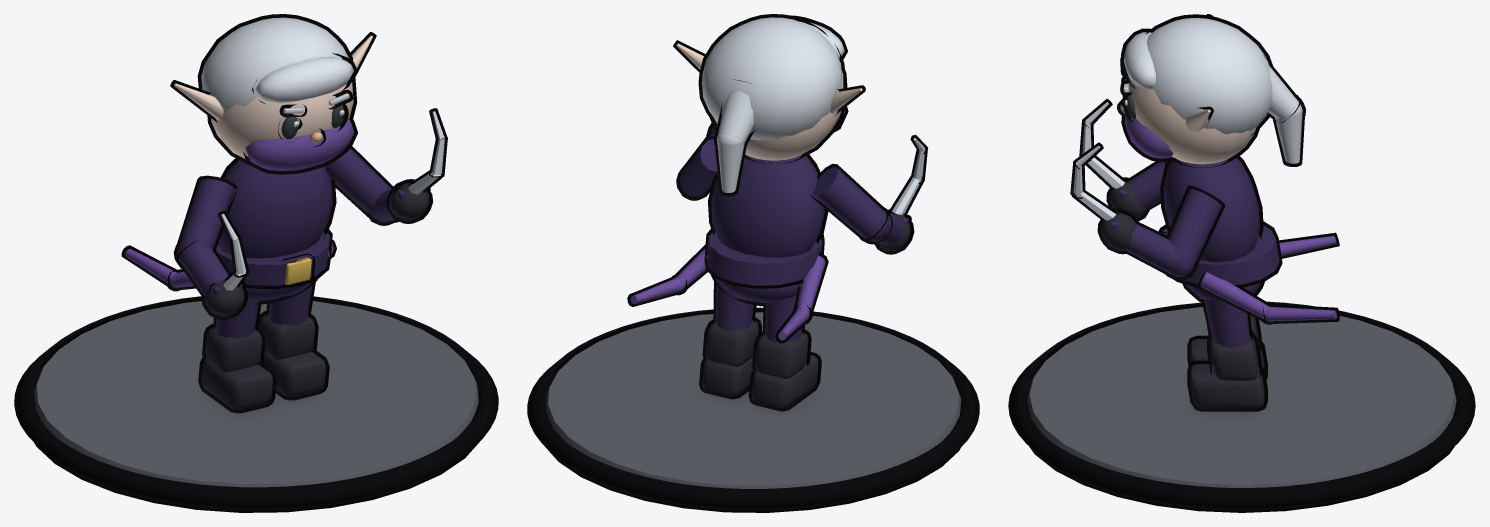
Rendered from shadow_dancer.fbx.
The picture shows the model from 3 angles, left to right: view 1: azimuth 30°, elevation 25°; view 2: azimuth 150°, elevation 25°; view 3: azimuth 270°, elevation 25°; orthographic projection. The views are drawn at different scales.
Parts seen in each view (by area): view 1: shadow_dancer; view 2: shadow_dancer; view 3: shadow_dancer.
Boxes of the visible parts, x1,y1,x2,y2 form: shadow_dancer: [14, 14, 498, 512]; shadow_dancer: [527, 14, 979, 512]; shadow_dancer: [1008, 14, 1475, 512].
Bounding box in the file's own units: 1.58 × 1.48 × 1.58.
Materials: 2 (1 with a texture image).
